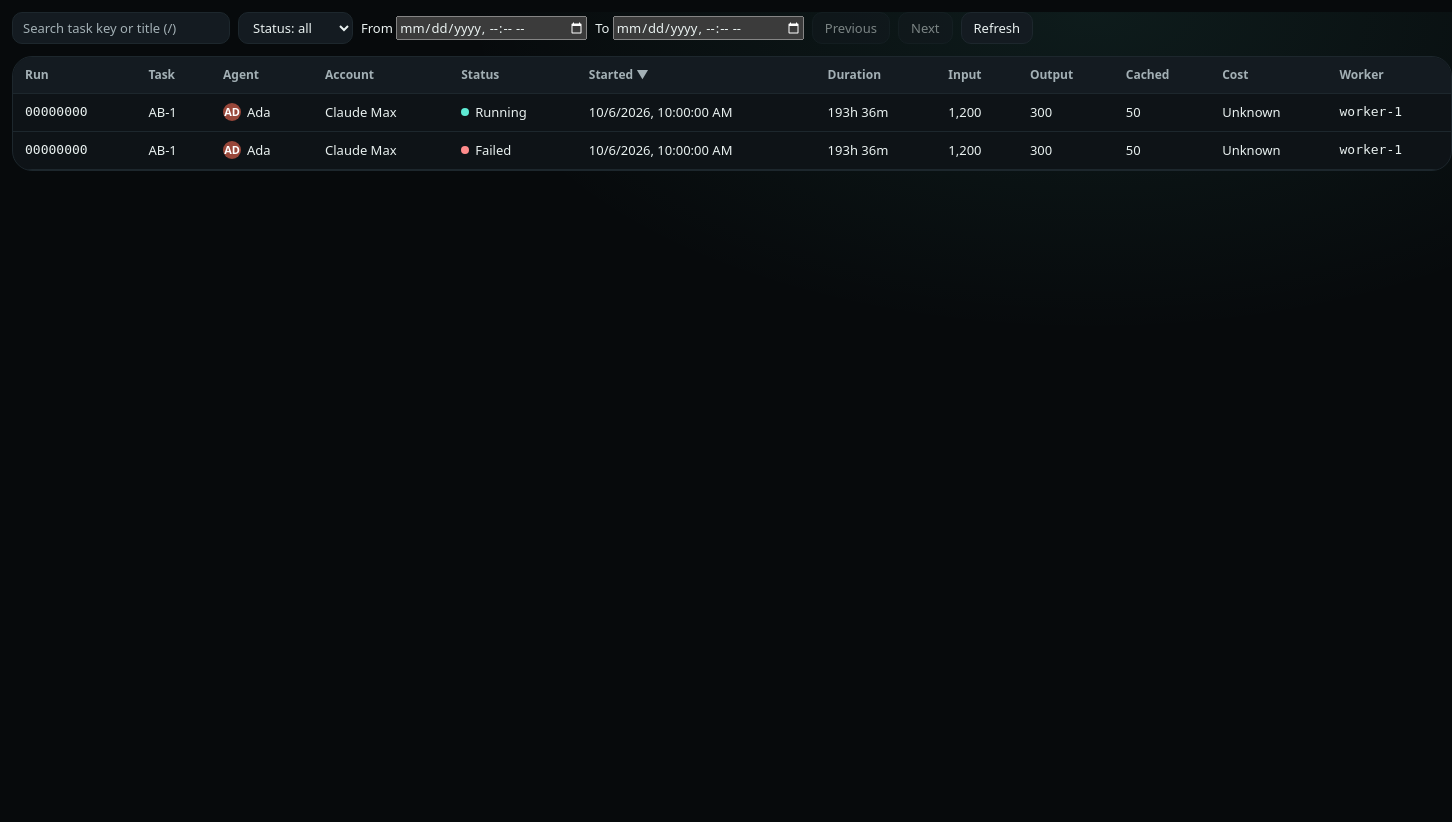
Runs screen › lists runs and opens details with the live log in the dock
Check: the number of rows is 3, box [13,57,1451,93]; [13,93,1451,131]; [13,131,1451,169]
Check: the text "AB-1" is shown 2 times, box [136,93,211,131]; [136,131,211,169]
Click the text "Running". click: [501, 112]
box: [475,103,527,122]
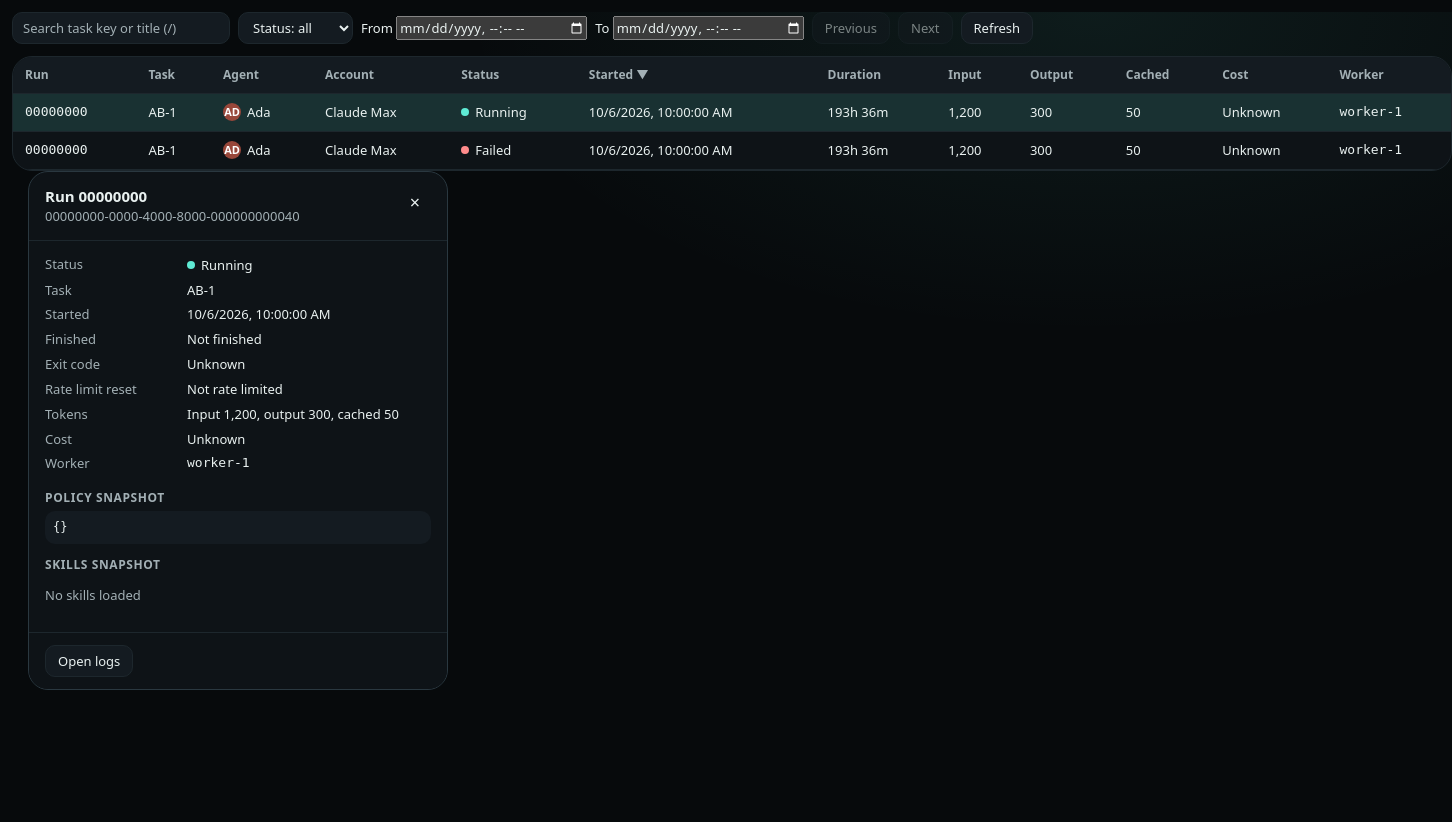
Check: the text "Input 1,200, output 300, cached 50" is shown, box [187,405,431,424]
Check: the button "Open logs" is shown, box [45,645,133,677]
